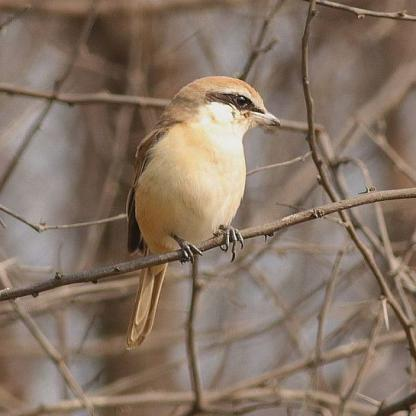Burung: (122, 77, 282, 350)
